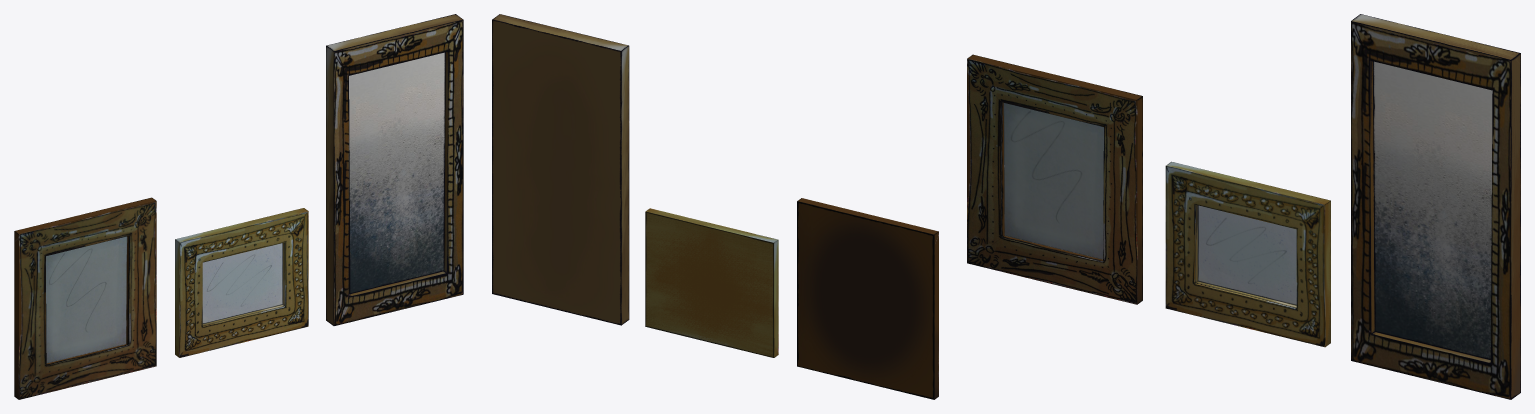
Rendered from cuadros.fbx.
3 views of the same model, side by side, from view 1: azimuth 30°, elevation 25°; view 2: azimuth 150°, elevation 25°; view 3: azimuth 330°, elevation 25° (orthographic). The views are drawn at different scales.
Visible parts, largest first — view 1: espejo, cuadro2, cuadro1; view 2: espejo, cuadro2, cuadro1; view 3: espejo, cuadro2, cuadro1.
Part boxes in pixels (x1=…): espejo: x1=326, y1=14, x2=463, y2=325; cuadro2: x1=14, y1=197, x2=156, y2=399; cuadro1: x1=175, y1=208, x2=308, y2=357; espejo: x1=492, y1=14, x2=629, y2=325; cuadro2: x1=797, y1=198, x2=938, y2=399; cuadro1: x1=645, y1=208, x2=778, y2=357; espejo: x1=1351, y1=14, x2=1520, y2=399; cuadro2: x1=967, y1=54, x2=1142, y2=304; cuadro1: x1=1165, y1=161, x2=1330, y2=347.
Bounding box in the file's own units: 19.55 × 11.61 × 0.5972.
